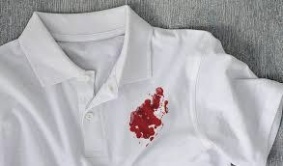blood: (128, 87, 169, 142)
